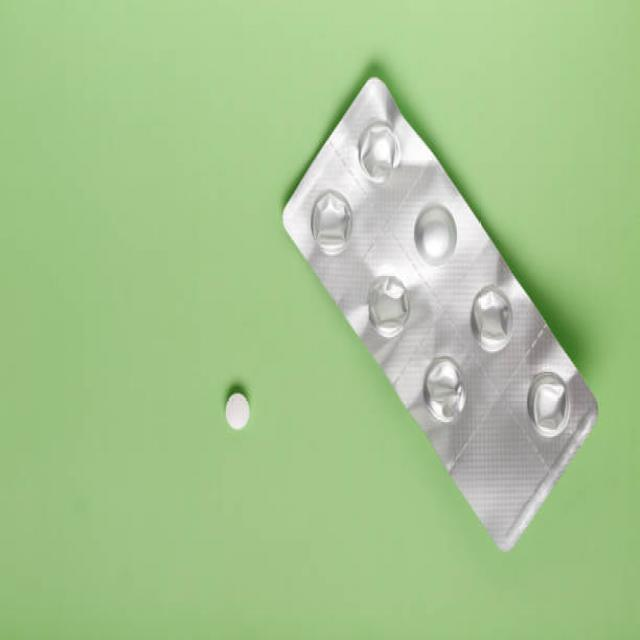Empty: (522, 367, 577, 449), (302, 187, 358, 262), (363, 264, 413, 345), (416, 350, 465, 430), (352, 117, 403, 191), (466, 282, 514, 352)
Pill: (414, 197, 458, 271)
